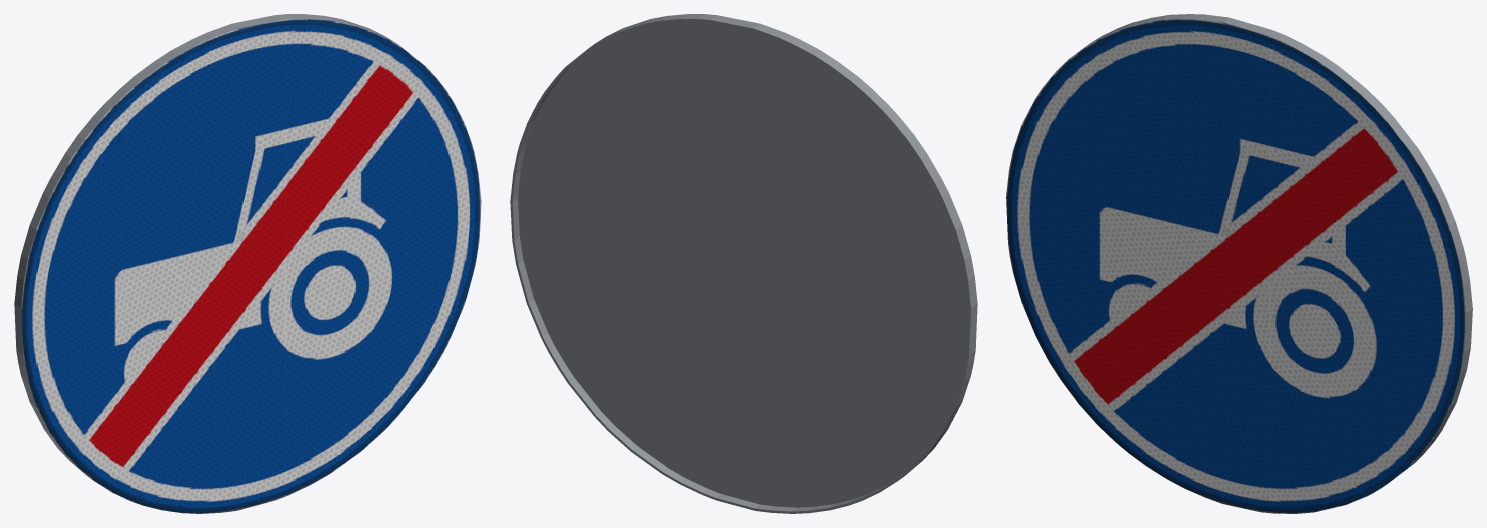
3 views of the same model, side by side, from view 1: azimuth 30°, elevation 25°; view 2: azimuth 150°, elevation 25°; view 3: azimuth 330°, elevation 25° (orthographic).
Parts seen in each view (by area): view 1: cat_35fd35c5cbf59ca0; view 2: cat_35fd35c5cbf59ca0; view 3: cat_35fd35c5cbf59ca0.
Part boxes in pixels (x1,y1,x2,y2): cat_35fd35c5cbf59ca0: (14,14,481,513); cat_35fd35c5cbf59ca0: (510,14,977,513); cat_35fd35c5cbf59ca0: (1006,14,1472,513).
Bounding box in the file's own units: 0.6 × 0.015 × 0.6.
Materials: 2 (1 with a texture image).
